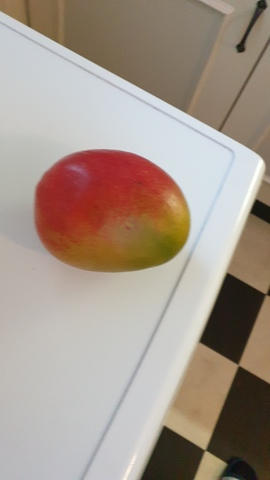Mango: (34, 150, 190, 272)
